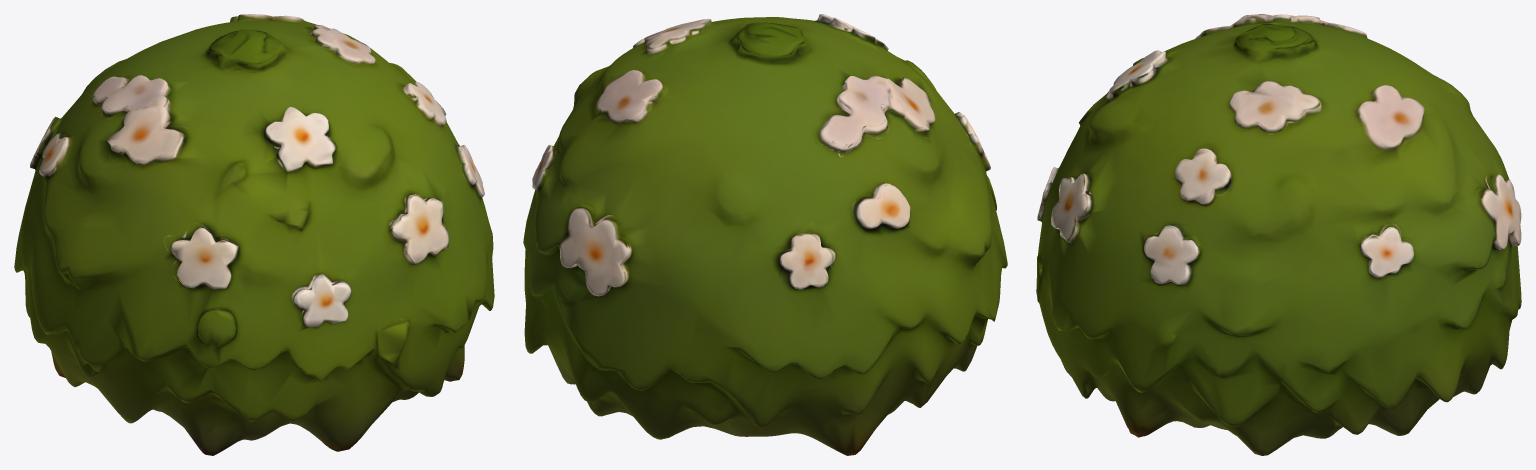
File: bush.glb
3 views of the same model, side by side, from view 1: azimuth 30°, elevation 25°; view 2: azimuth 150°, elevation 25°; view 3: azimuth 270°, elevation 25° (orthographic). The views are drawn at different scales.
Visible parts, largest first — view 1: node_0; view 2: node_0; view 3: node_0.
Part boxes in pixels (left/top/right/bottom): node_0: left=14, top=14, right=494, bottom=455; node_0: left=523, top=14, right=1007, bottom=455; node_0: left=1036, top=14, right=1521, bottom=455.
Bounding box in the file's own units: 1.04 × 0.8592 × 1.05.
Materials: 1 (1 with a texture image).
